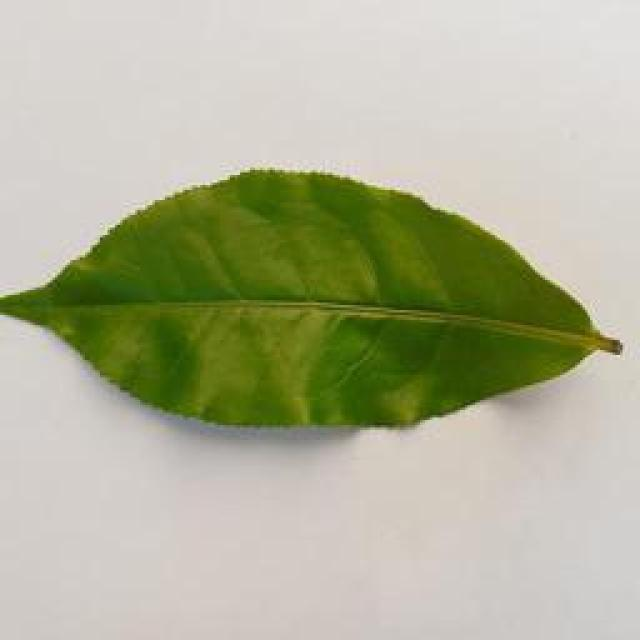Healthy: (2, 162, 640, 442)
